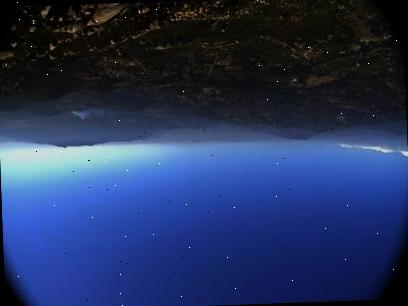smoke: (71, 108, 111, 124)
